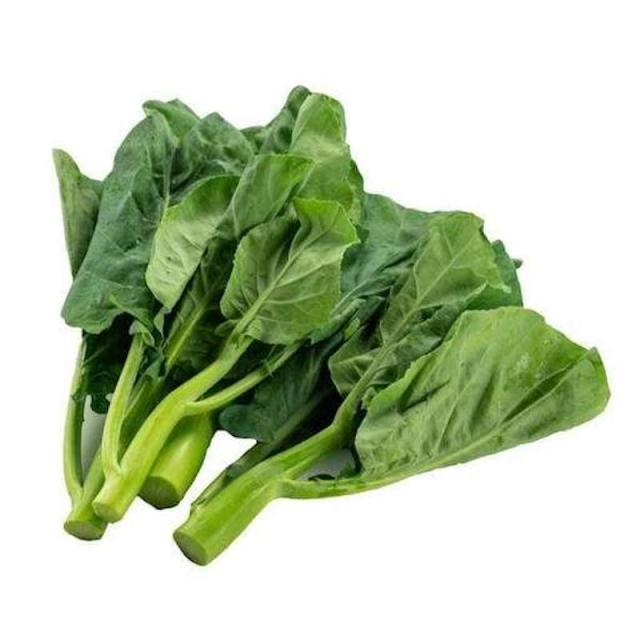collard: (54, 87, 604, 559)
